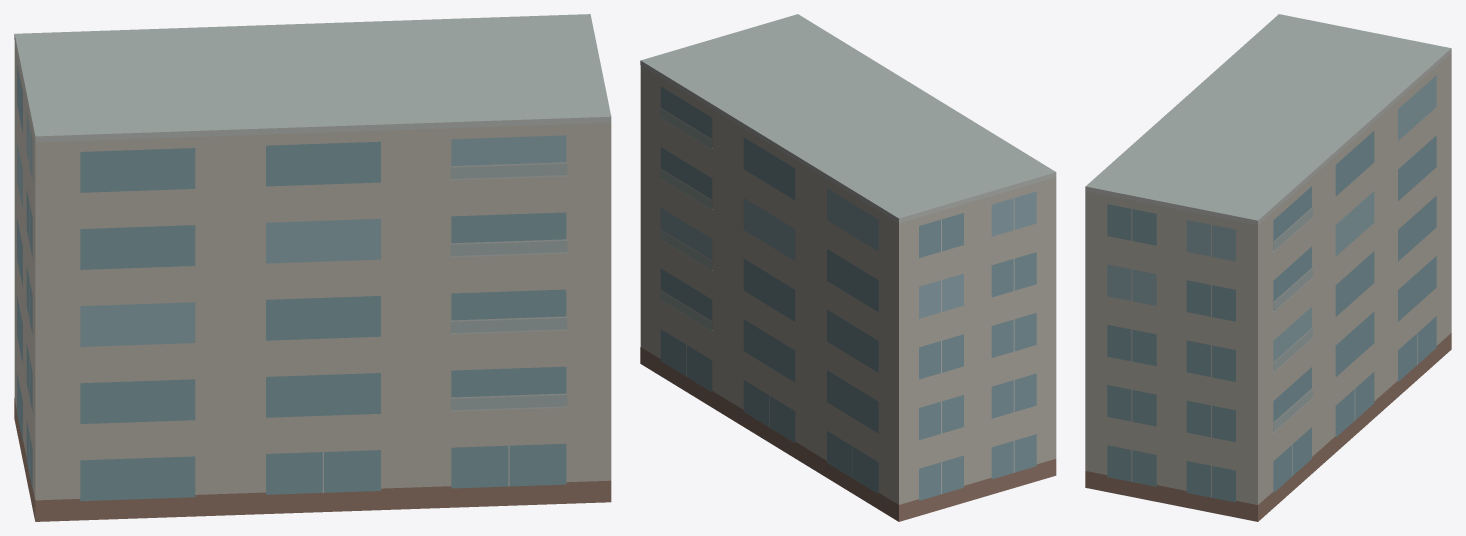
File: survey-upis-32994606.glb
3 views of the same model, side by side, from view 1: azimuth 30°, elevation 25°; view 2: azimuth 150°, elevation 25°; view 3: azimuth 270°, elevation 25° (orthographic). The views are drawn at different scales.
Visible parts, largest first — view 1: survey-upis-32994606.tmp; view 2: survey-upis-32994606.tmp; view 3: survey-upis-32994606.tmp.
Part boxes in pixels (bbox=[...]): survey-upis-32994606.tmp: bbox=[14, 14, 611, 521]; survey-upis-32994606.tmp: bbox=[640, 14, 1056, 521]; survey-upis-32994606.tmp: bbox=[1085, 14, 1451, 521].
Bounding box in the file's own units: 22.66 × 15.4 × 16.97.
